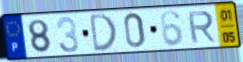0: (122, 11, 148, 50)
3: (56, 15, 80, 54)
6: (159, 9, 185, 48)
8: (26, 18, 54, 54)
D: (88, 12, 118, 54)
R: (186, 10, 218, 45)
